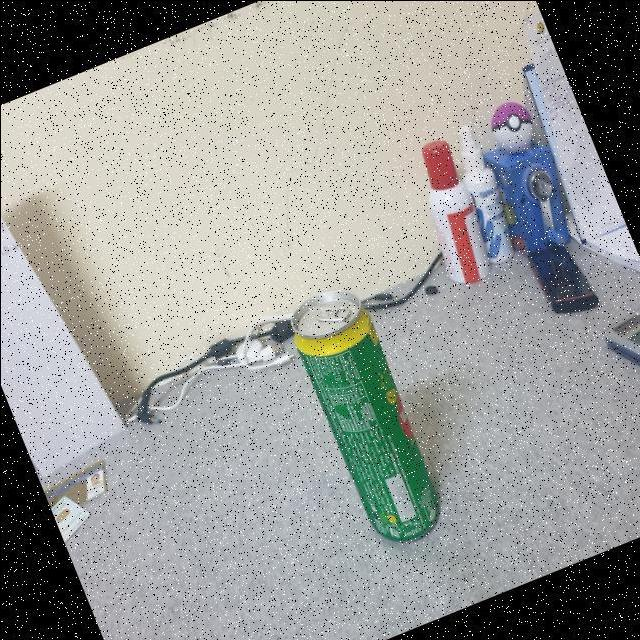can: (269, 265, 462, 566)
